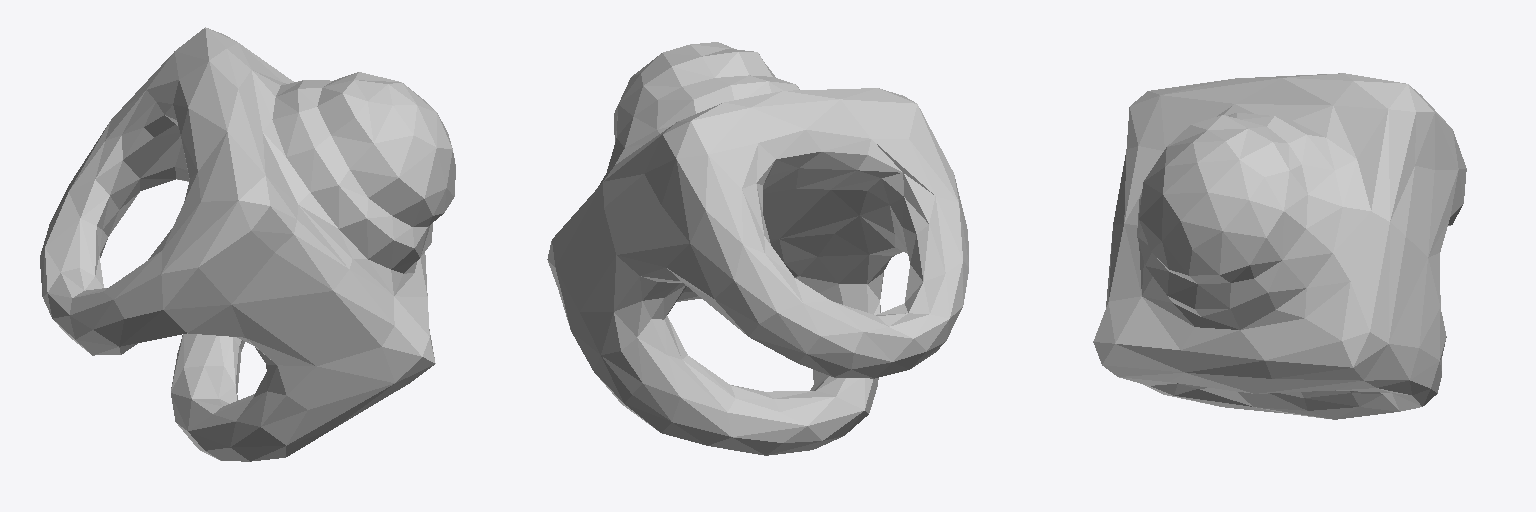
The model's file is Small wrist device.OBJ.
3 renders of one model, left to right at view 1: azimuth 30°, elevation 25°; view 2: azimuth 150°, elevation 25°; view 3: azimuth 270°, elevation 25°, orthographic.
Parts seen in each view (by area): view 1: Group52053; view 2: Group52053; view 3: Group52053.
Part boxes in pixels (x1,y1,x2,y2): Group52053: (40, 27, 455, 461); Group52053: (547, 42, 968, 455); Group52053: (1093, 73, 1466, 419).
Size of the model in its own units: 17.62 by 16.33 by 15.47.